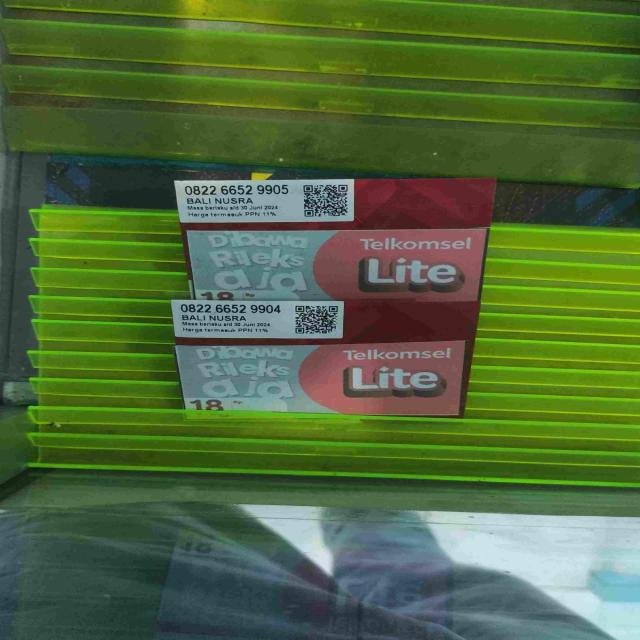Telkomsel: (173, 177, 476, 417)
